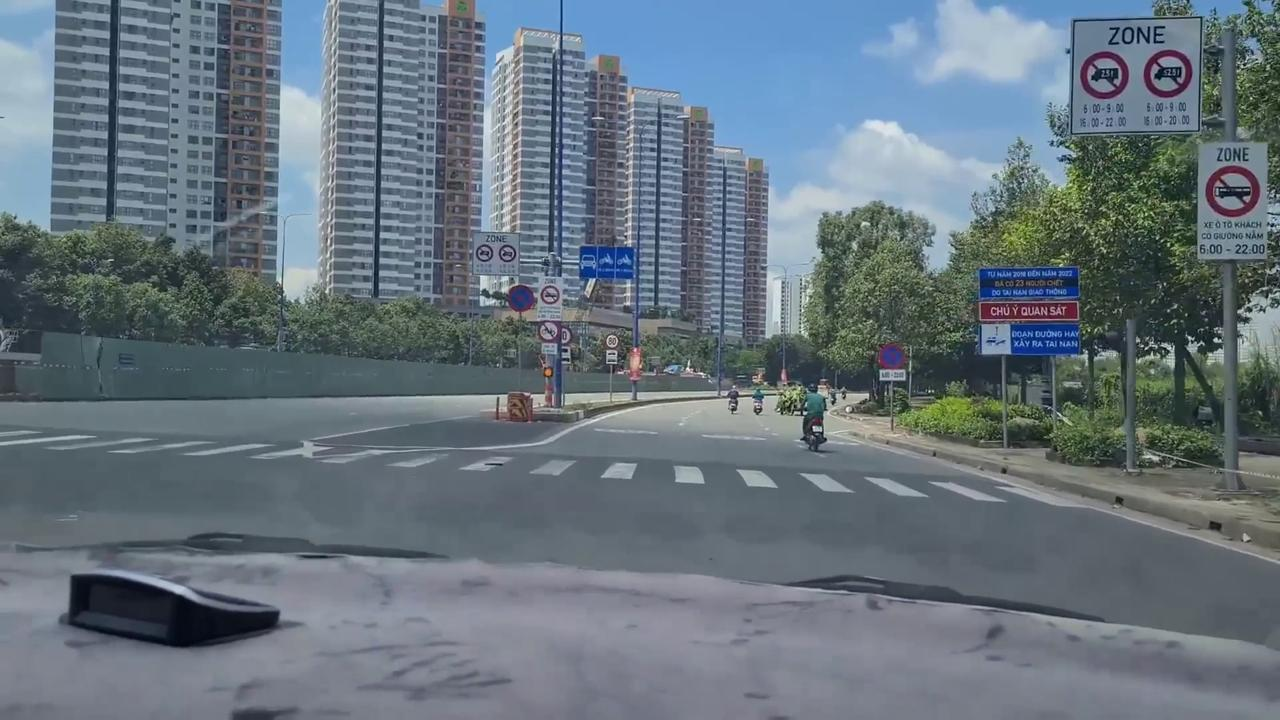Biển phụ: (880, 369, 906, 381), (606, 350, 618, 365)
Cấm cac phương tiện hoạt động trong khung giờ cố định: (1068, 18, 1201, 135), (1197, 141, 1267, 259), (470, 230, 520, 276), (537, 275, 563, 321)
Cấm dừng - Cấm đỗ: (507, 284, 535, 314), (878, 341, 906, 369)
Cấm xe máy: (537, 321, 560, 342)
Giới hạn tốc độ 80Km/h: (605, 333, 620, 349)
Khác: (977, 266, 1082, 356)
Làn đường cho từng xe: (578, 245, 634, 280)
